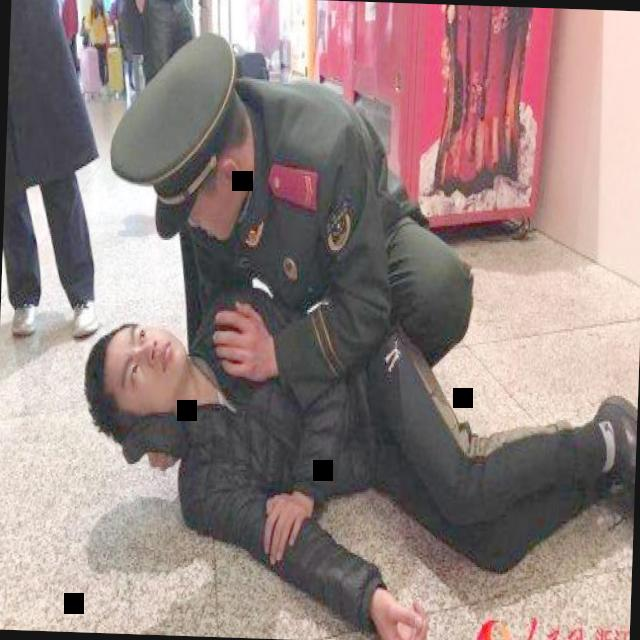Fall-Detected: (63, 276, 640, 640)
